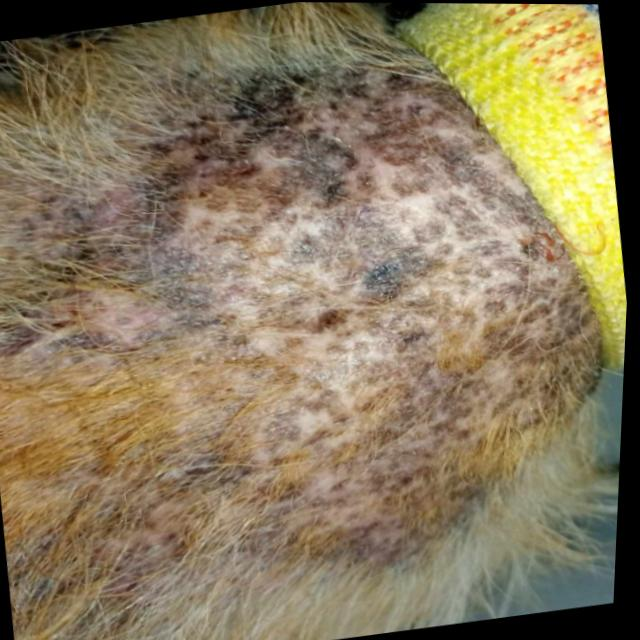demodicosis: (35, 24, 572, 616)
